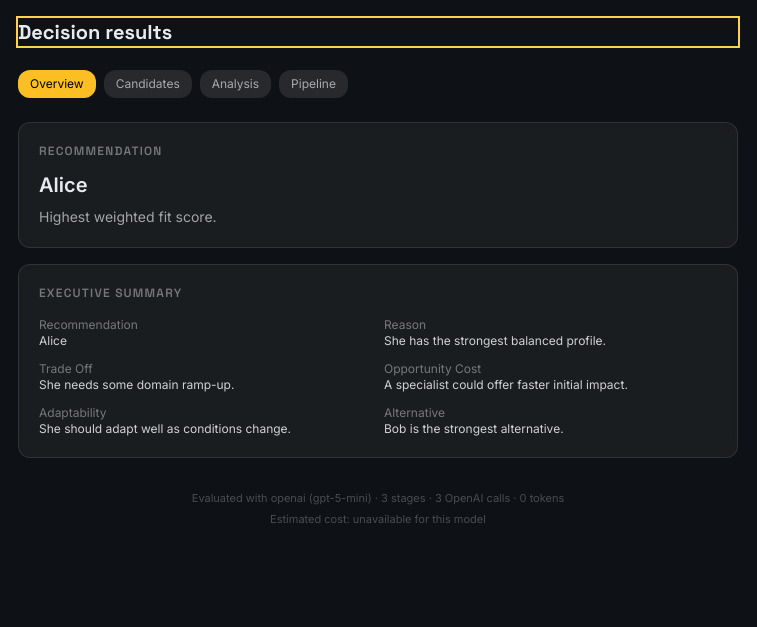
Test: Results — confidence/evidence wording, not bias-detection wording › labels the flags card 'Confidence & Evidence Flags', not 'Bias Flags'
Click the tab "Analysis". click: (235, 84)
box: [200,70,271,98]
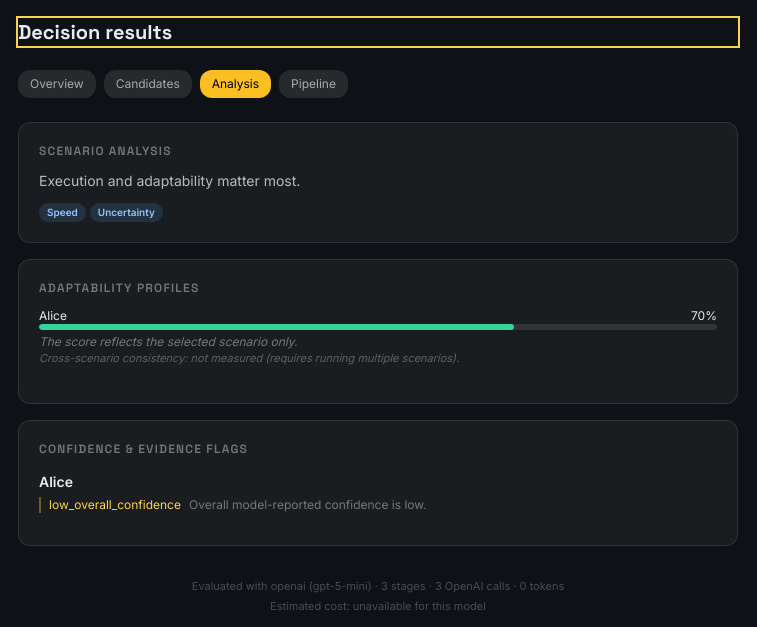
Now the heading "Confidence & Evidence Flags" is shown, box [39,440,248,456]
